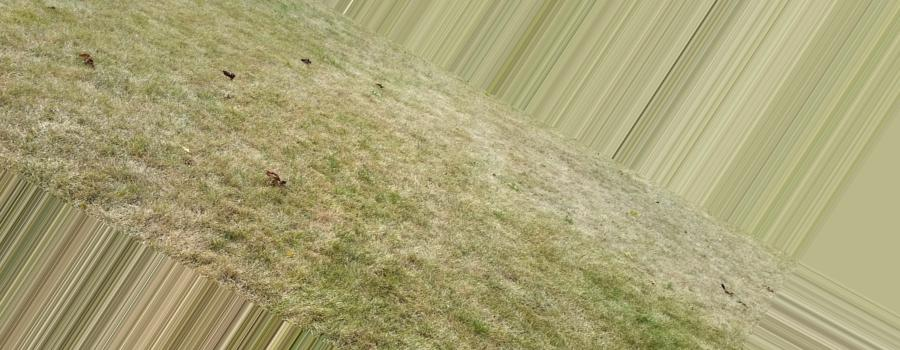patch: (43, 114, 165, 221), (169, 85, 271, 204), (376, 79, 490, 185), (667, 229, 740, 307), (555, 179, 629, 236)
